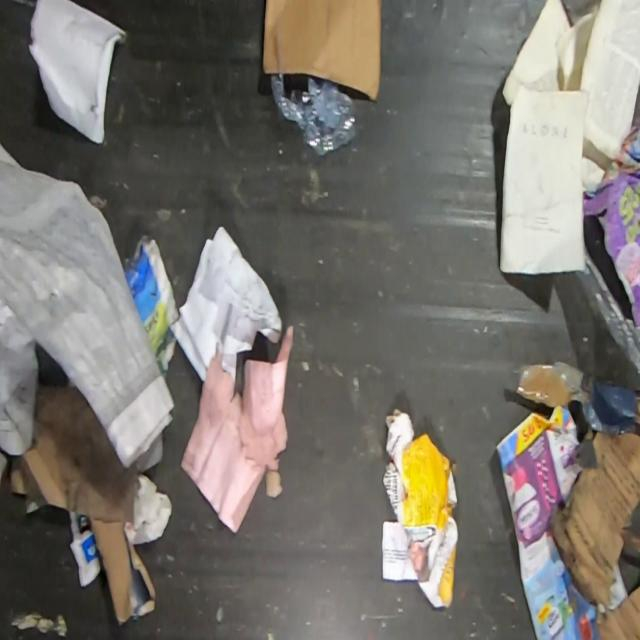cardboard: (9, 383, 156, 628), (553, 429, 640, 639), (381, 407, 457, 608), (513, 361, 640, 438)
rigid_plastic: (270, 74, 356, 155)
soft_plastic: (574, 224, 640, 429)
